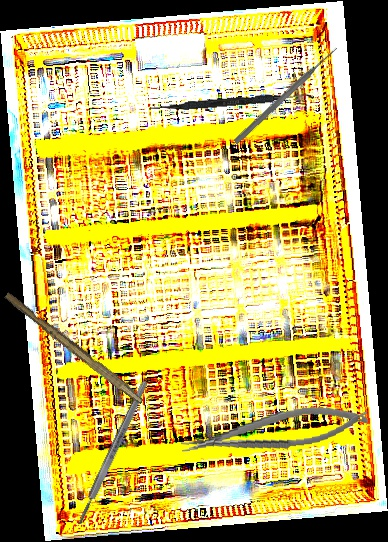Needle Holder: (178, 399, 371, 462)
Pusher: (232, 45, 340, 146)
Scalpel Handle: (1, 291, 148, 405), (75, 379, 150, 526)
Spatula Surgical: (148, 88, 315, 116)
